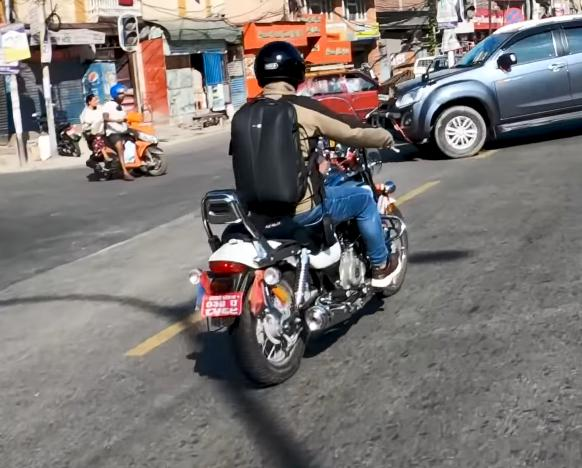bike: (185, 105, 415, 391)
